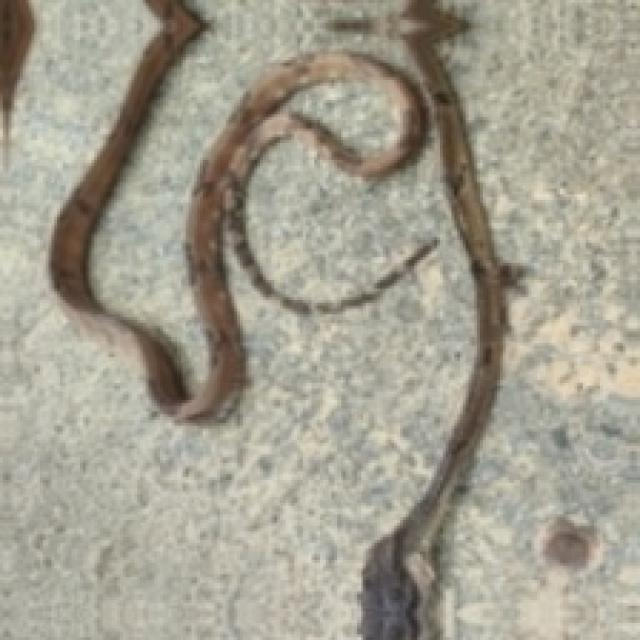dog-toothed cat snake: (49, 0, 435, 421), (360, 0, 509, 640)
